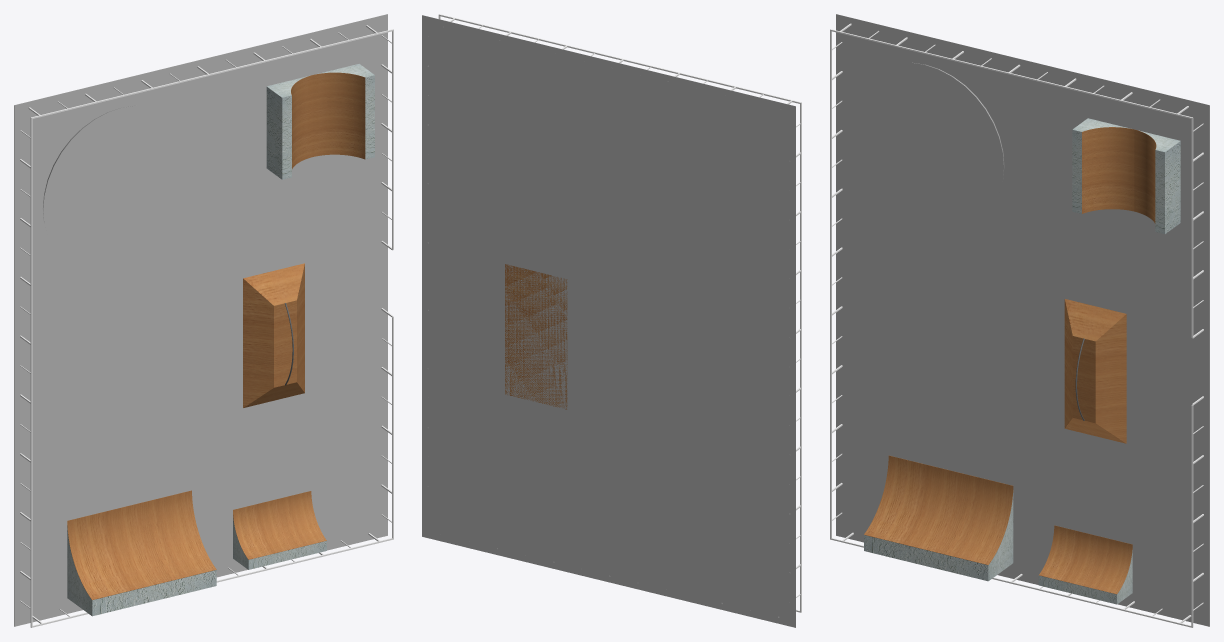
Rendered from Skatepark_1.fbx.
3 renders of one model, left to right at view 1: azimuth 30°, elevation 25°; view 2: azimuth 150°, elevation 25°; view 3: azimuth 330°, elevation 25°, orthographic.
Parts seen in each view (by area): view 1: Rectangle01, Sphere01, Skate ramp tre, Box01, Railing01, Skate ramp tre02, Skate ramp tre01, Skate ramp, Skate ramp03, Skate ramp tre03, Skate ramp01, Skate ramp02; view 2: Rectangle01, Box01, Railing01; view 3: Rectangle01, Sphere01, Skate ramp tre, Box01, Railing01, Skate ramp tre03, Skate ramp tre01, Skate ramp, Skate ramp02, Skate ramp tre02, Skate ramp01, Skate ramp03.
Boxes of the visible parts, box(x1,y1,x2,y2) form: Rectangle01: box(14, 14, 387, 626); Sphere01: box(42, 105, 202, 276); Skate ramp tre: box(67, 490, 216, 600); Box01: box(243, 263, 304, 407); Railing01: box(20, 25, 393, 627); Skate ramp tre02: box(313, 72, 365, 159); Skate ramp tre01: box(233, 491, 326, 559); Skate ramp: box(67, 528, 216, 616); Skate ramp03: box(266, 76, 308, 179); Skate ramp tre03: box(291, 75, 312, 168); Skate ramp01: box(233, 516, 326, 569); Skate ramp02: box(316, 63, 374, 159); Rectangle01: box(422, 15, 795, 627); Box01: box(505, 264, 567, 409); Railing01: box(427, 14, 801, 617); Rectangle01: box(836, 14, 1209, 626); Sphere01: box(845, 62, 1004, 233); Skate ramp tre: box(864, 455, 1013, 565); Box01: box(1064, 299, 1126, 443); Railing01: box(830, 23, 1203, 627); Skate ramp tre03: box(1082, 127, 1134, 213); Skate ramp tre01: box(1039, 525, 1132, 594); Skate ramp: box(864, 493, 1013, 581); Skate ramp02: box(1139, 130, 1180, 233); Skate ramp tre02: box(1134, 129, 1156, 223); Skate ramp01: box(1038, 550, 1132, 604); Skate ramp03: box(1072, 118, 1129, 213).
Size of the model in its own units: 591 by 787 by 68.85.
